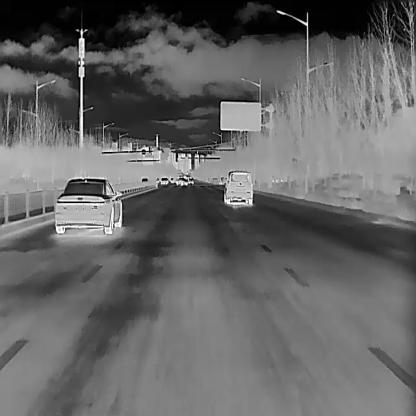car: (54, 177, 122, 234), (224, 170, 252, 205), (174, 177, 187, 185), (159, 176, 168, 184), (187, 176, 193, 184), (169, 175, 174, 183), (140, 176, 148, 181)
